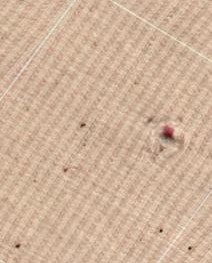hole: (153, 117, 191, 150)
stain: (75, 119, 100, 140), (7, 235, 28, 259), (149, 222, 170, 243), (55, 165, 79, 182), (179, 241, 201, 258)
